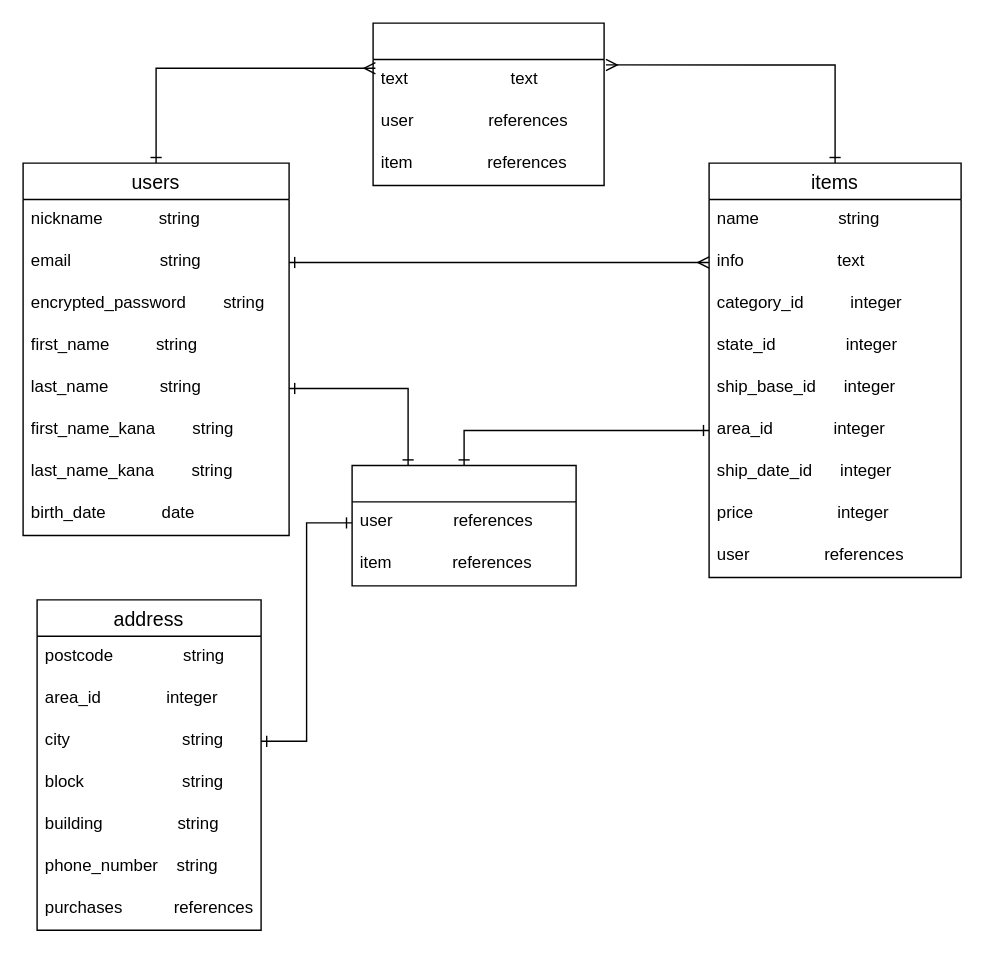
Image size: 984x953. Some labels were removed from this diagram. The box of each missing label's shape, as (x1, y1, x2, y2) in pixels:
comments: (372, 22, 604, 186)
purchases: (351, 464, 576, 586)
